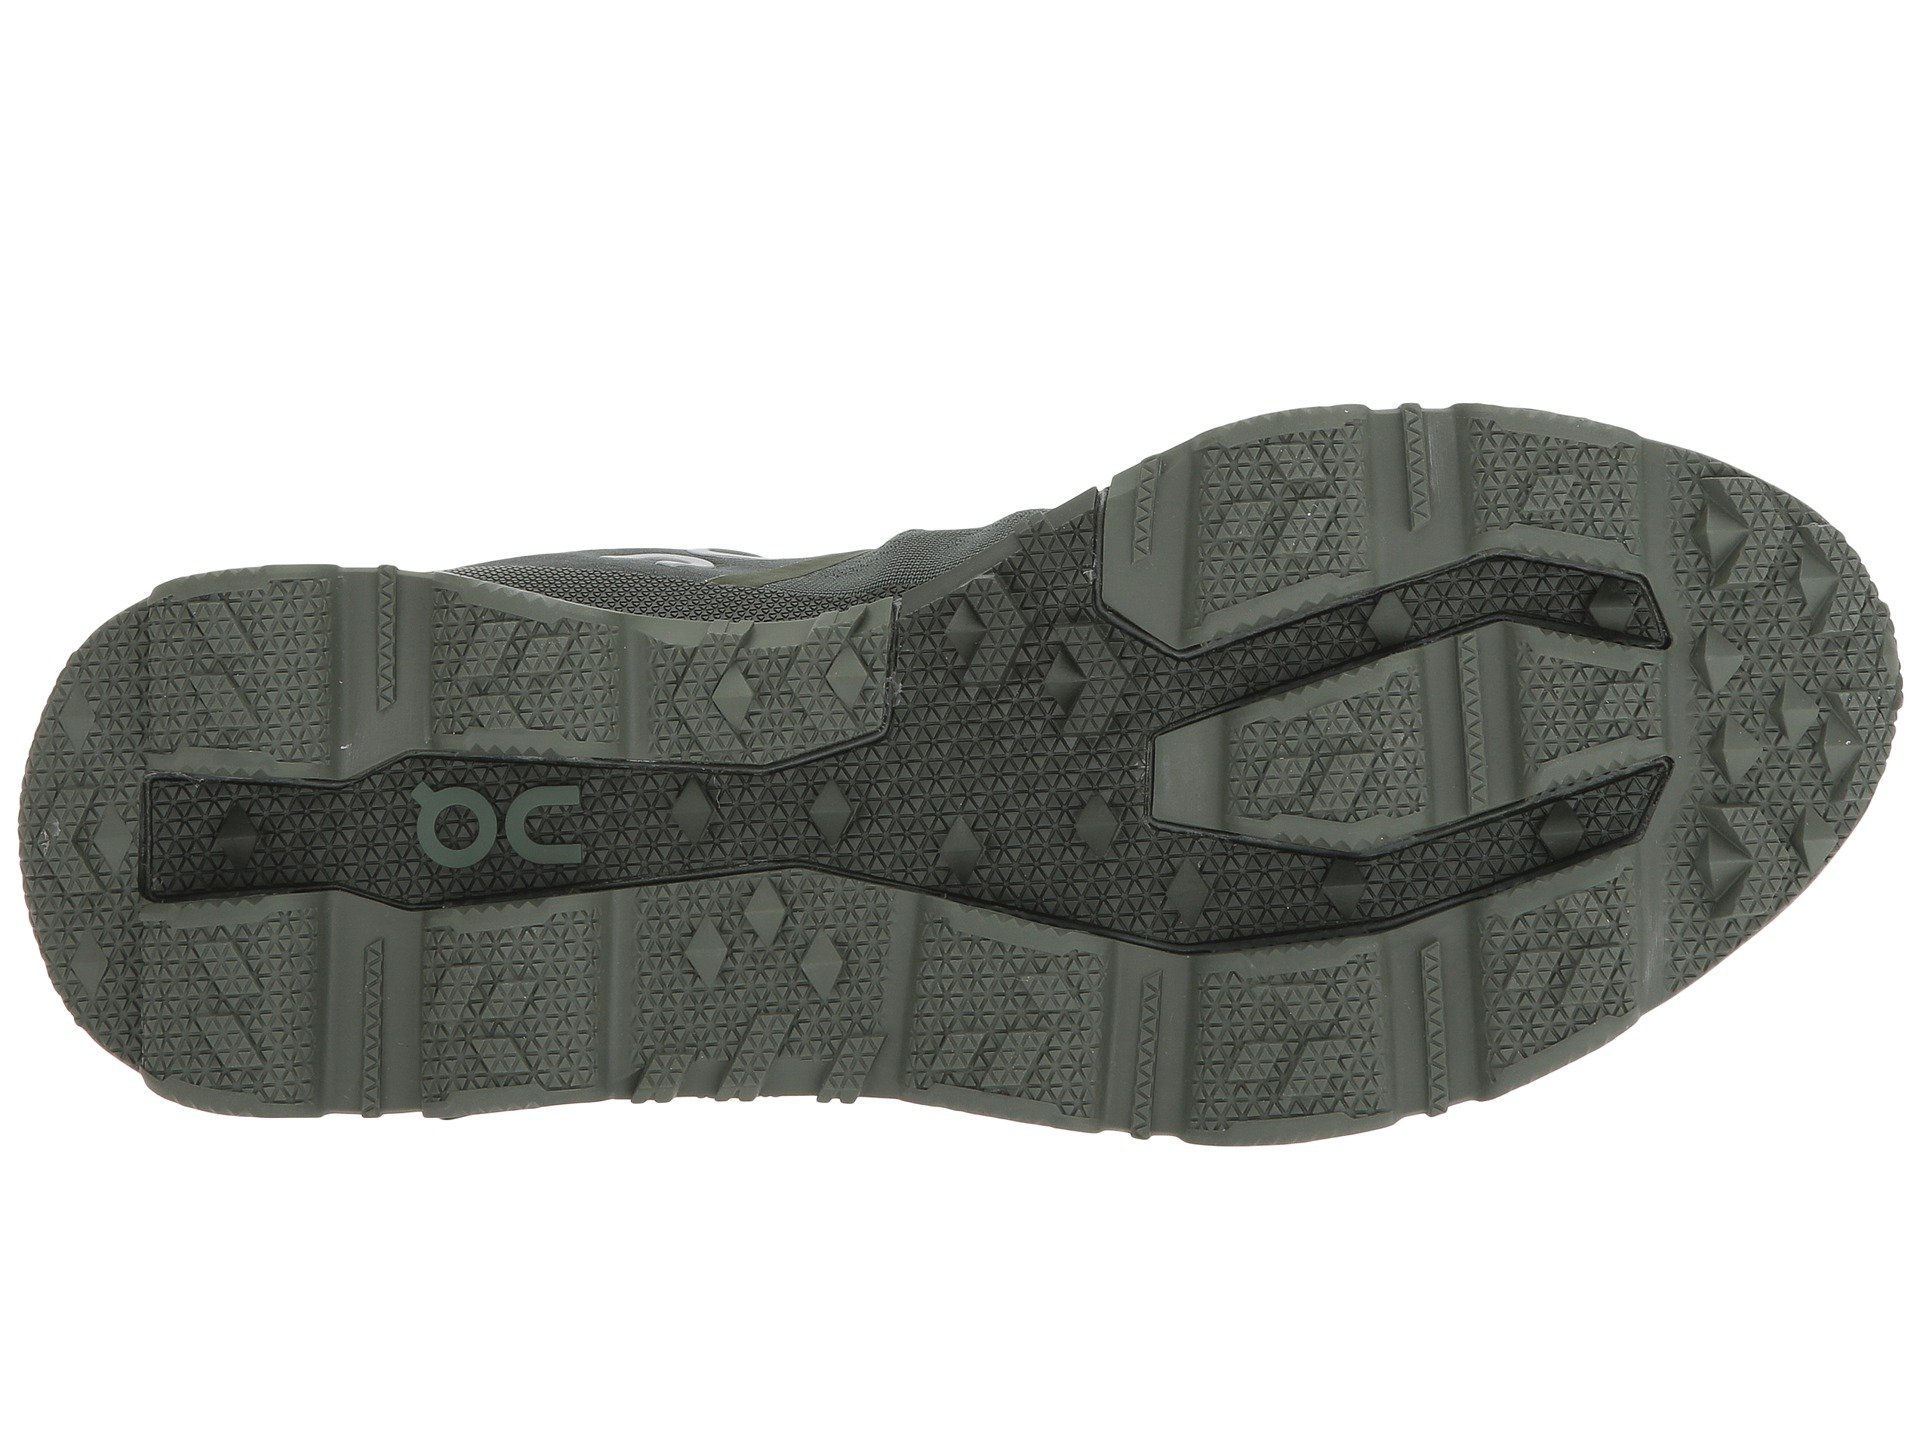chevron: (952, 576, 1131, 765), (17, 753, 125, 921)
circle: (389, 761, 615, 886)
line: (1373, 407, 1545, 829)
quad: (952, 576, 1131, 765), (1194, 967, 1376, 1106)
text: (389, 761, 615, 886)
triangle: (1373, 407, 1545, 829), (952, 576, 1131, 765), (389, 761, 615, 886), (1194, 967, 1376, 1106), (17, 753, 125, 921)
